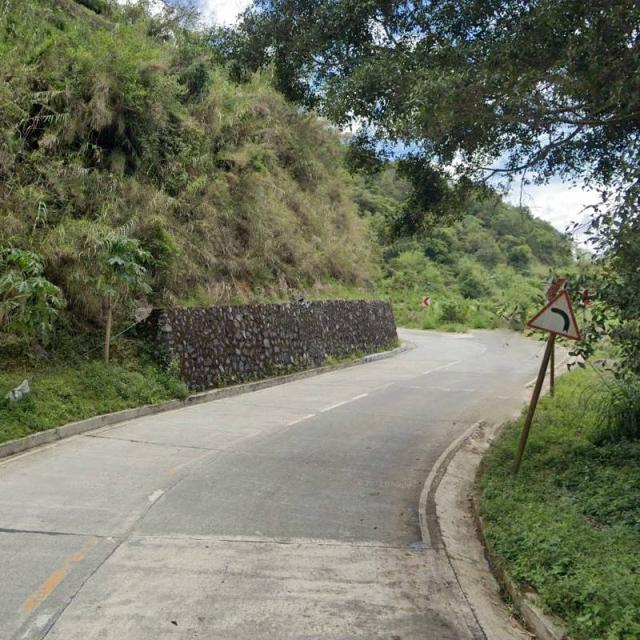warn_left_curve: (526, 289, 582, 341)
